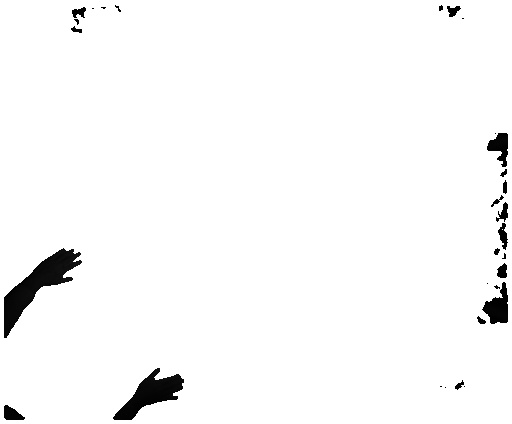hand: (30, 248, 87, 292), (138, 368, 183, 407)
